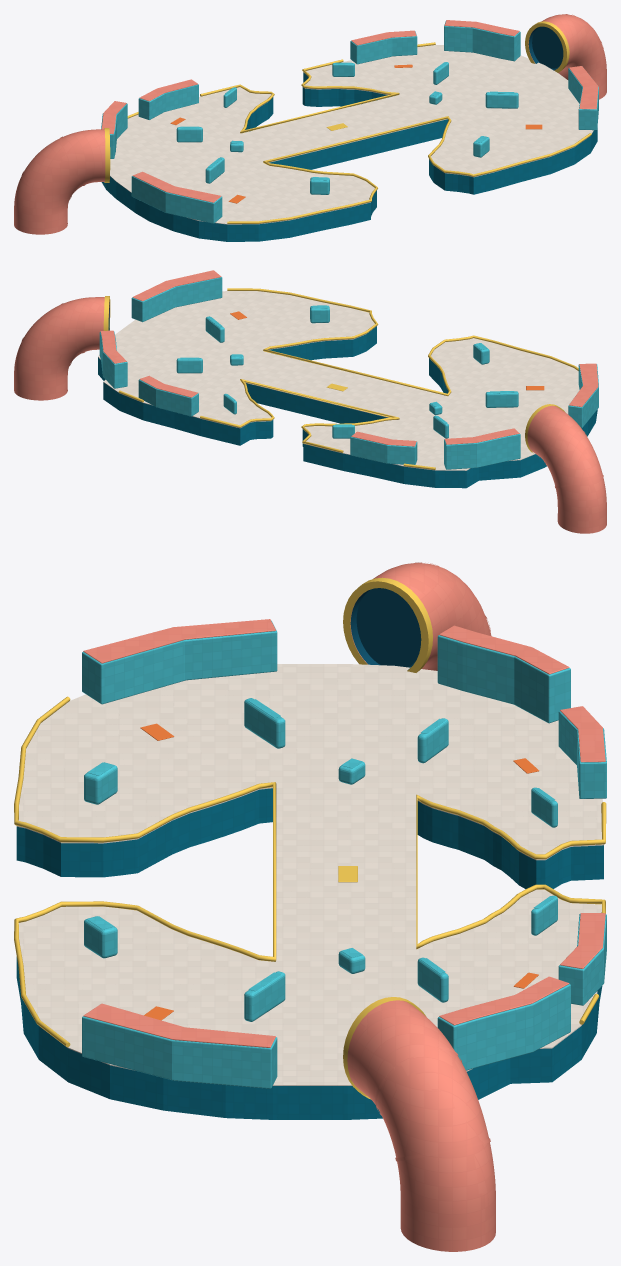
The model's file is twin_bays_art_v4_foreground.glb.
3 renders of one model, top to bottom at view 1: azimuth 30°, elevation 25°; view 2: azimuth 150°, elevation 25°; view 3: azimuth 270°, elevation 25°, orthographic. The views are drawn at different scales.
Parts seen in each view (by area): view 1: Foreground_TBSA_DryCream, Foreground_TBSA_CyanDark, Foreground_TBSA_CoralSoft, Foreground_TBSA_Cyan, Foreground_TBSA_SafetyYellow, Foreground_TBSA_PortalRecess, Foreground_TBSA_PickupOrange; view 2: Foreground_TBSA_DryCream, Foreground_TBSA_CoralSoft, Foreground_TBSA_CyanDark, Foreground_TBSA_Cyan, Foreground_TBSA_SafetyYellow; view 3: Foreground_TBSA_DryCream, Foreground_TBSA_Cyan, Foreground_TBSA_CoralSoft, Foreground_TBSA_CyanDark, Foreground_TBSA_SafetyYellow, Foreground_TBSA_PortalRecess, Foreground_TBSA_PickupOrange.
Boxes of the visible parts, left/top/right/bottom form: Foreground_TBSA_DryCream: left=110, top=45, right=593, bottom=224; Foreground_TBSA_CyanDark: left=101, top=72, right=597, bottom=241; Foreground_TBSA_CoralSoft: left=14, top=14, right=606, bottom=234; Foreground_TBSA_Cyan: left=101, top=21, right=598, bottom=223; Foreground_TBSA_SafetyYellow: left=104, top=21, right=591, bottom=223; Foreground_TBSA_PortalRecess: left=528, top=26, right=563, bottom=70; Foreground_TBSA_PickupOrange: left=170, top=64, right=542, bottom=203; Foreground_TBSA_DryCream: left=98, top=291, right=579, bottom=470; Foreground_TBSA_CoralSoft: left=14, top=270, right=606, bottom=533; Foreground_TBSA_CyanDark: left=98, top=326, right=597, bottom=488; Foreground_TBSA_Cyan: left=99, top=277, right=598, bottom=469; Foreground_TBSA_SafetyYellow: left=103, top=288, right=578, bottom=469; Foreground_TBSA_DryCream: left=16, top=664, right=603, bottom=1085; Foreground_TBSA_Cyan: left=82, top=620, right=606, bottom=1088; Foreground_TBSA_CoralSoft: left=83, top=562, right=605, bottom=1251; Foreground_TBSA_CyanDark: left=16, top=788, right=603, bottom=1119; Foreground_TBSA_SafetyYellow: left=14, top=577, right=606, bottom=1099; Foreground_TBSA_PortalRecess: left=350, top=588, right=421, bottom=669; Foreground_TBSA_PickupOrange: left=140, top=723, right=539, bottom=1020.
Bounding box in the file's own units: 149 × 22.64 × 66.64.
7 materials, 4 textured.
